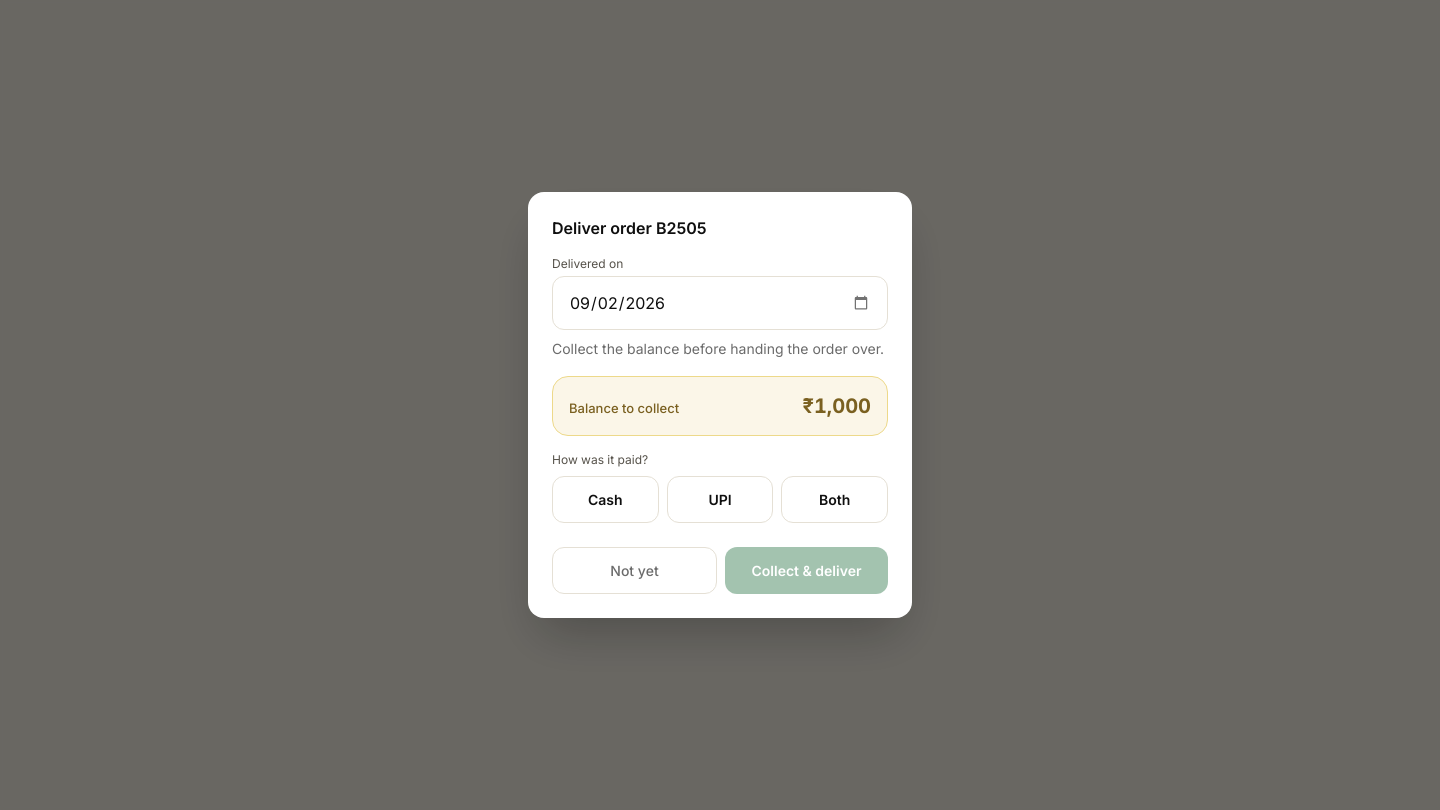
Test case: DeliverOrderDialog › a payment that arrived two ways › flags more than the balance
Click the button "Both" at {"x": 835, "y": 500}, box [781,476,888,523]
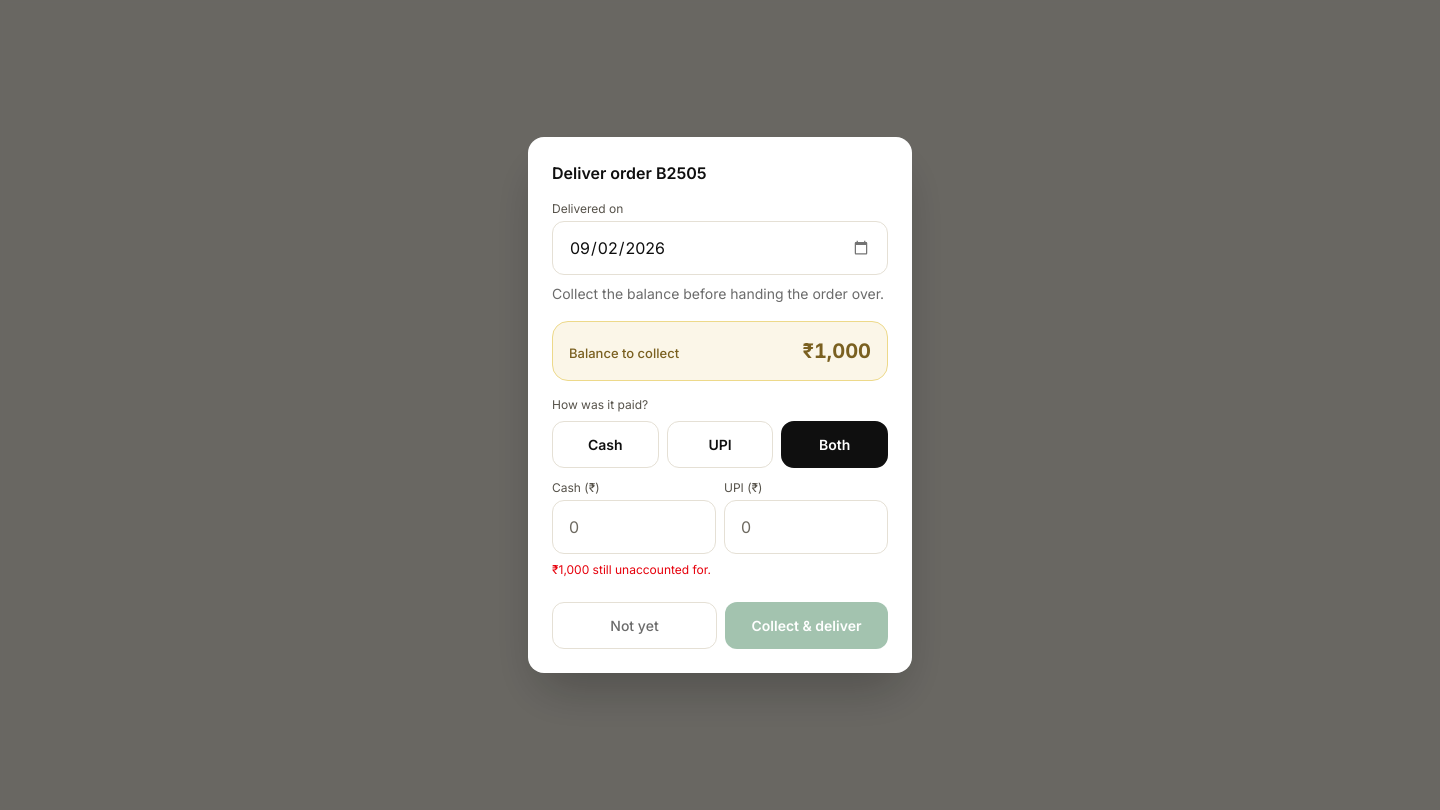
Type "900" into the number field labelled "Cash (₹)" at {"x": 634, "y": 527}, box [552,500,716,554]
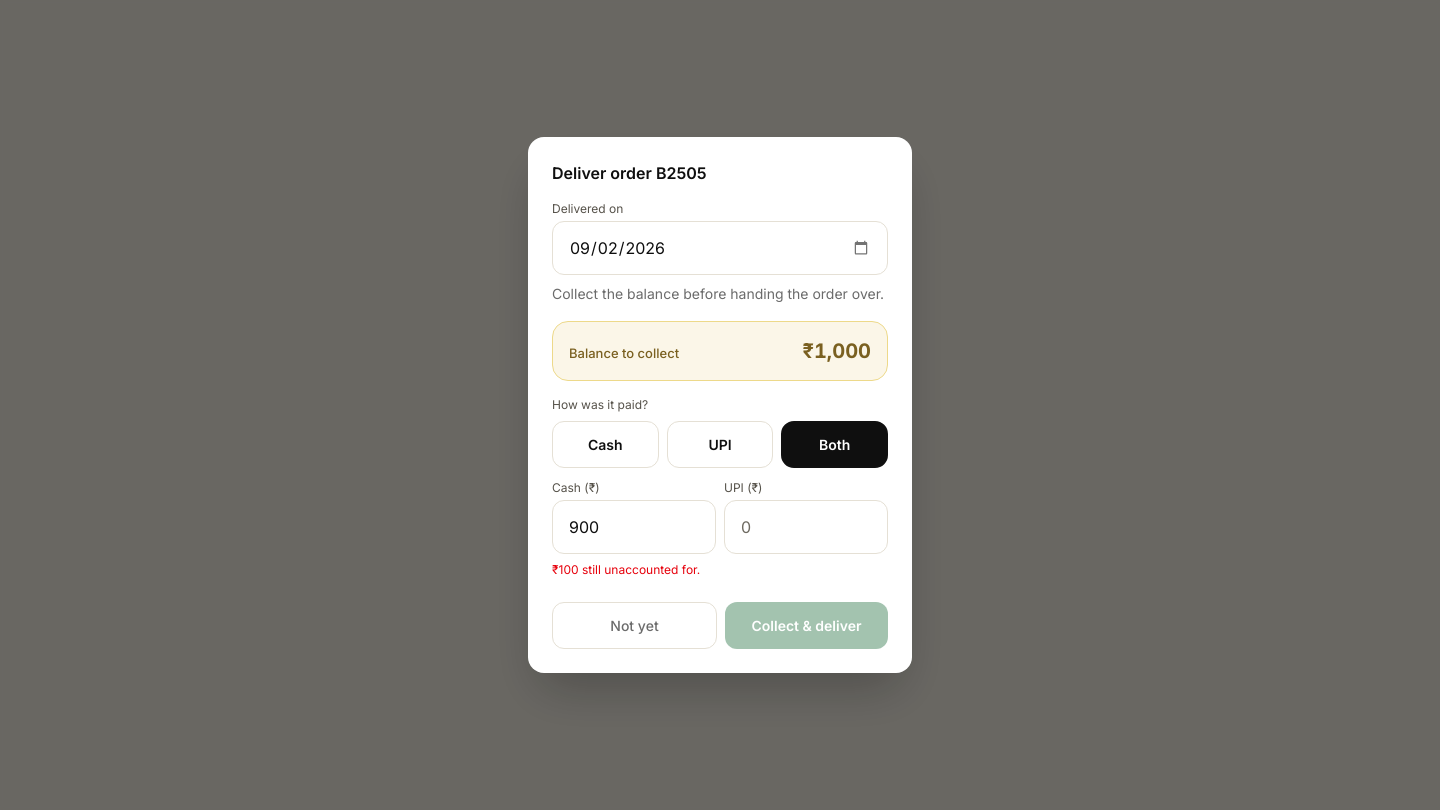
Type "900" into the number field labelled "UPI (₹)" at {"x": 806, "y": 527}, box [724,500,888,554]
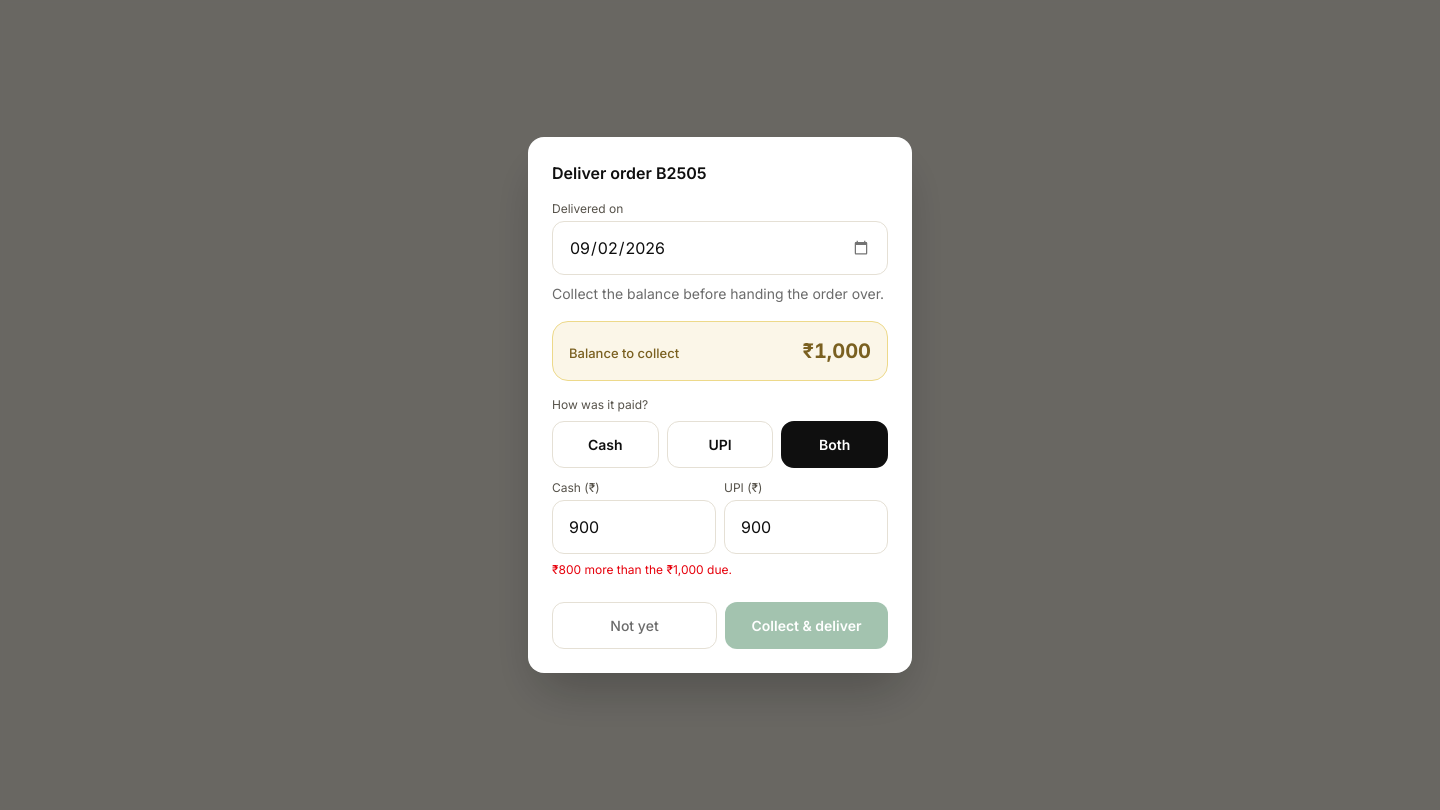
Expected: the text "₹800 more than the ₹1,000 due." is shown, [552,562,732,577]
